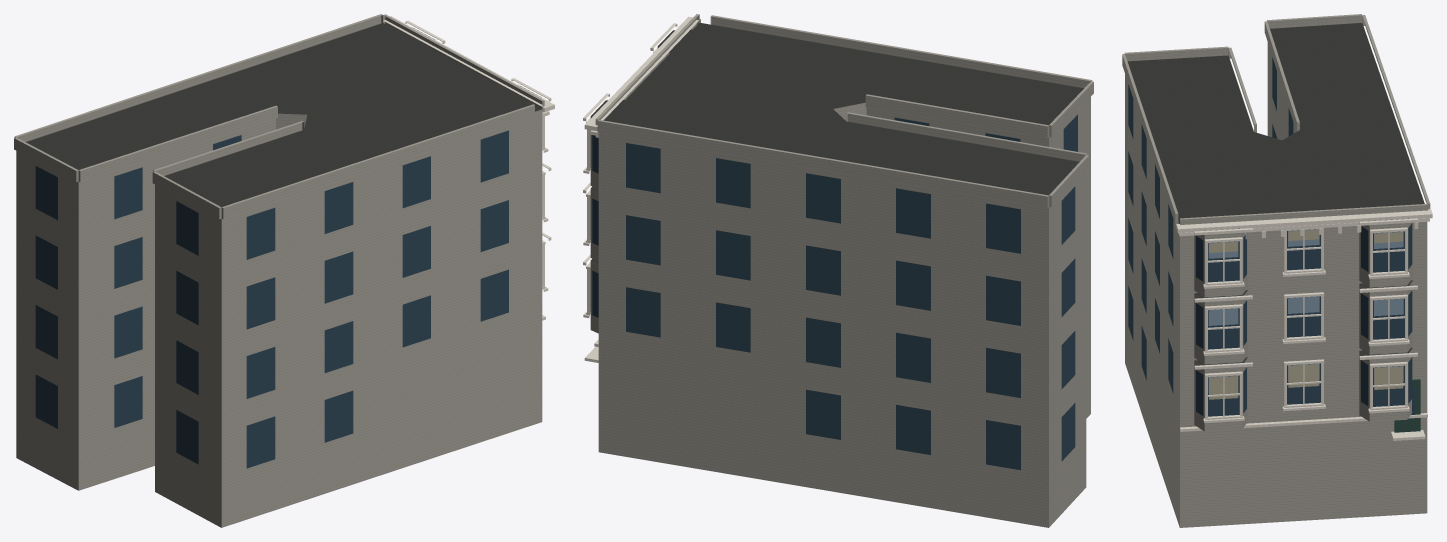
The picture shows the model from 3 angles, left to right: view 1: azimuth 30°, elevation 25°; view 2: azimuth 150°, elevation 25°; view 3: azimuth 270°, elevation 25°; orthographic projection. The views are drawn at different scales.
Parts seen in each view (by area): view 1: Footprint 0 / surface 2, Footprint 0 / surface 1, Inset glazing, Facade bay volumes, Cornices and window frames; view 2: Footprint 0 / surface 2, Footprint 0 / surface 1, Inset glazing, Facade bay volumes, Cornices and window frames; view 3: Footprint 0 / surface 2, Footprint 0 / surface 1, Inset glazing, Facade bay volumes, Cornices and window frames, Interior blind variation, Sky reflection panels, Storefronts and doors, Roof.
Part boxes in pixels (bbox=[...]): Footprint 0 / surface 2: bbox=[16, 109, 542, 527]; Footprint 0 / surface 1: bbox=[26, 23, 541, 207]; Inset glazing: bbox=[35, 130, 508, 468]; Facade bay volumes: bbox=[14, 14, 544, 219]; Cornices and window frames: bbox=[383, 16, 554, 320]; Footprint 0 / surface 2: bbox=[598, 97, 1090, 527]; Footprint 0 / surface 1: bbox=[605, 22, 1083, 195]; Inset glazing: bbox=[592, 114, 1077, 470]; Facade bay volumes: bbox=[590, 14, 1093, 333]; Cornices and window frames: bbox=[583, 16, 700, 362]; Footprint 0 / surface 2: bbox=[1125, 42, 1427, 527]; Footprint 0 / surface 1: bbox=[1127, 23, 1424, 223]; Inset glazing: bbox=[1128, 57, 1415, 416]; Facade bay volumes: bbox=[1122, 14, 1430, 431]; Cornices and window frames: bbox=[1176, 209, 1432, 440]; Interior blind variation: bbox=[1209, 230, 1403, 399]; Sky reflection panels: bbox=[1208, 229, 1403, 392]; Storefronts and doors: bbox=[1394, 379, 1420, 432]; Roof: bbox=[1194, 218, 1412, 365].
Size of the model in its own units: 20.95 by 14.19 by 12.9.
